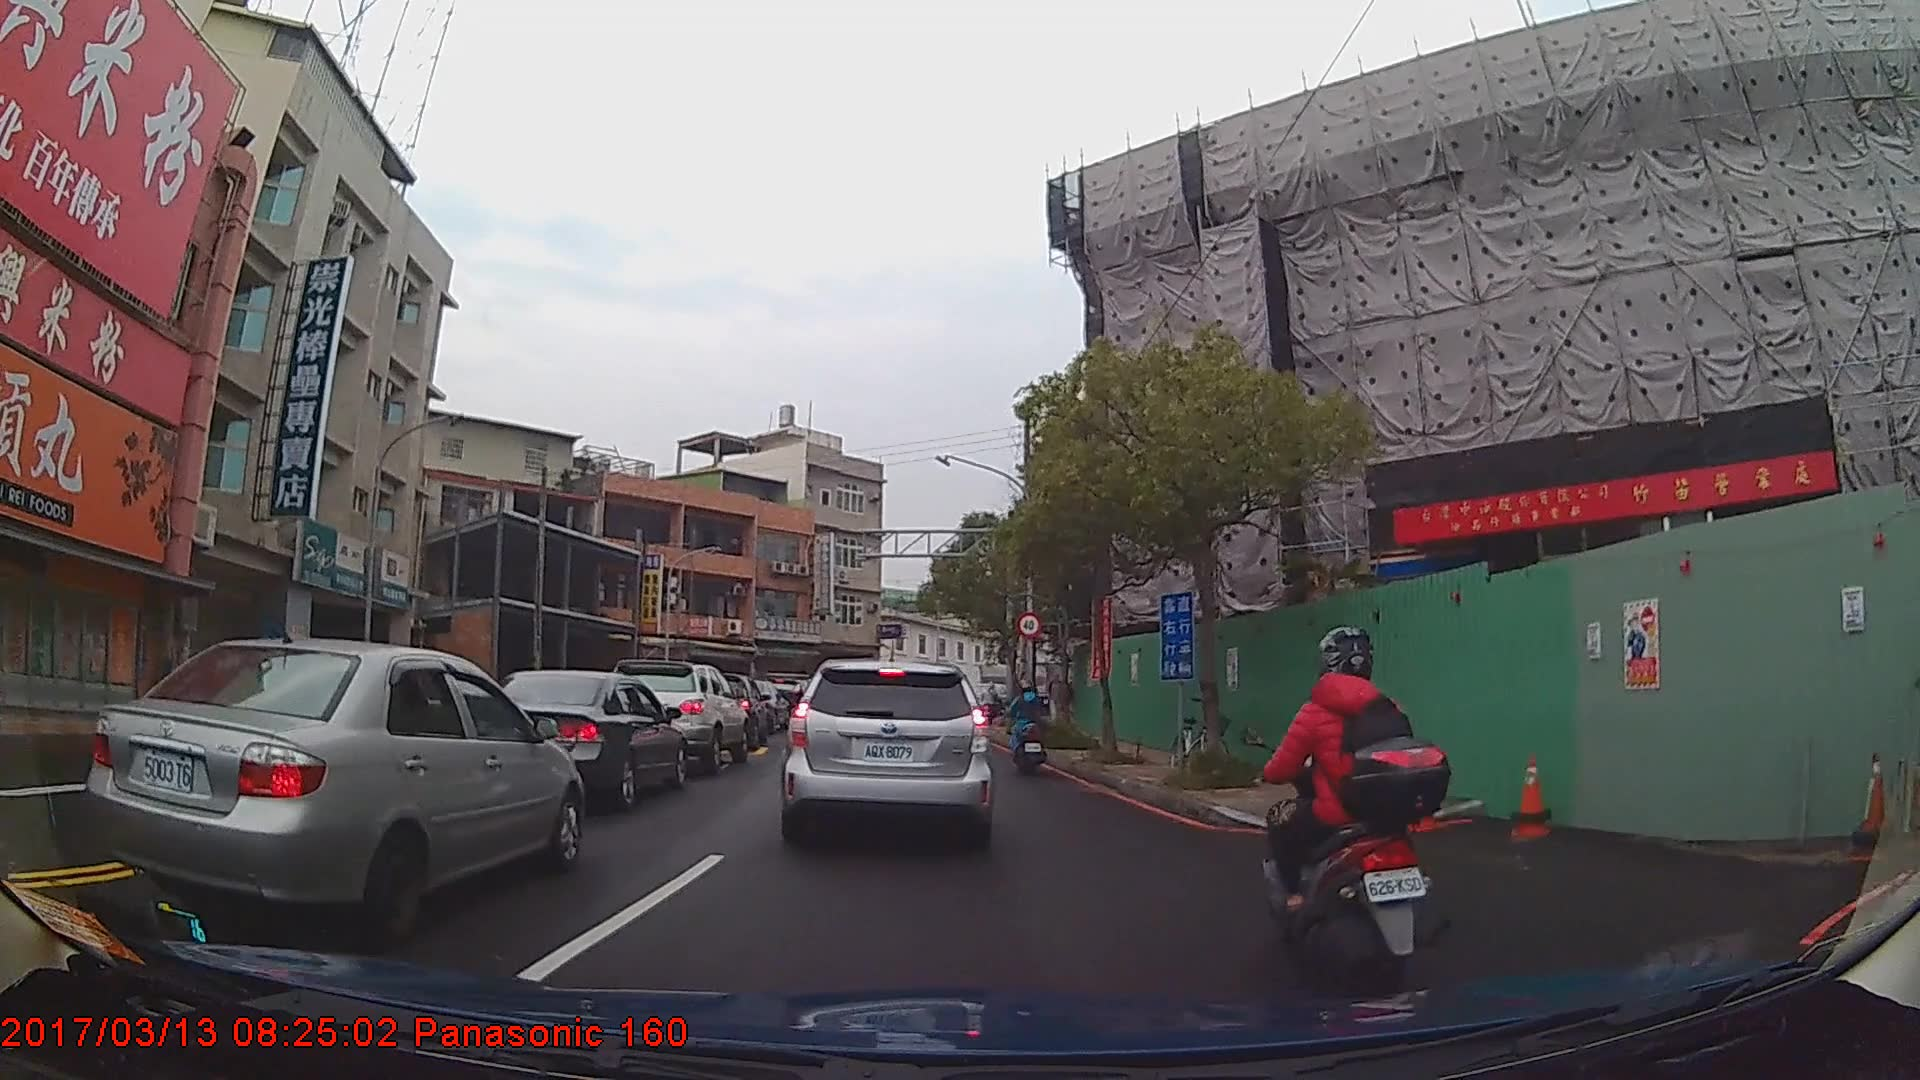rider: (1248, 623, 1457, 996), (1002, 681, 1050, 778)
vehicle: (81, 636, 587, 941), (779, 657, 994, 849), (468, 668, 687, 811), (605, 656, 748, 771)
